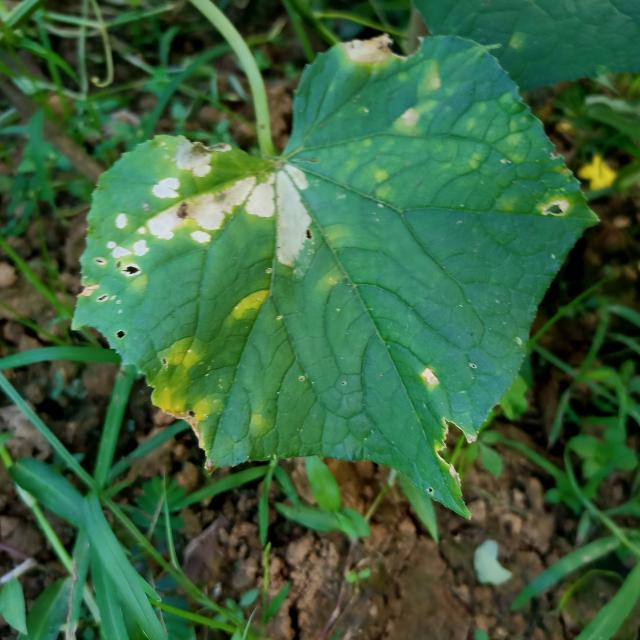disease_cucumber: (82, 130, 324, 302), (150, 336, 219, 438), (386, 58, 472, 137), (220, 280, 275, 328)
